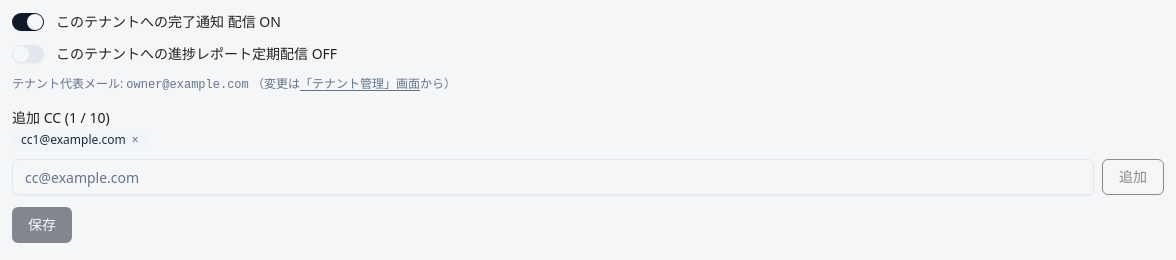
Test: TenantCcForm › 削除後に同じ email を再追加できる
Expected: the text "cc1@example.com" is shown, [21,131,126,148]
Click the button named "cc1@example.com を削除" at x=135, y=140, box [132,132,139,148]
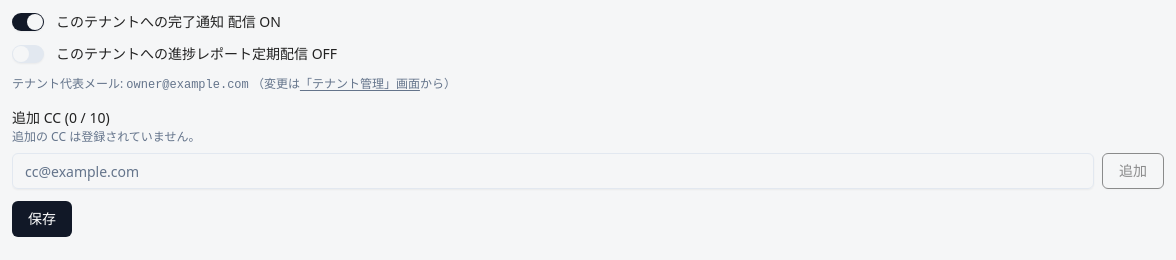
Now the text "cc1@example.com" is gone
// 同じ email を再追加
Type "cc1@example.com" into the field named "追加する CC メール" at x=553, y=171, box [12,153,1094,189]
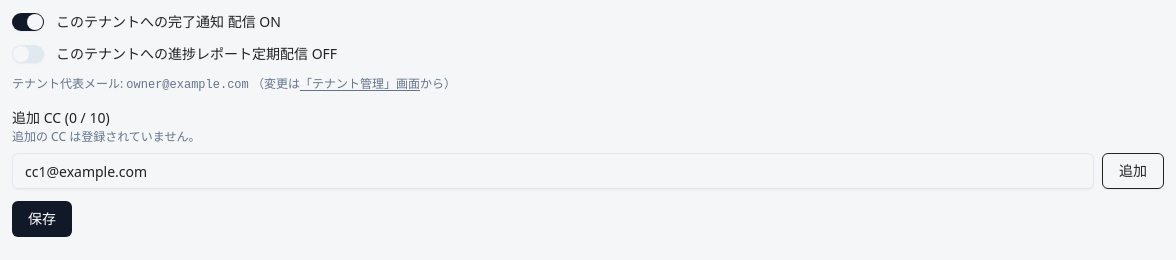
Click the button "追加" at x=1133, y=171, box [1102,153,1164,189]
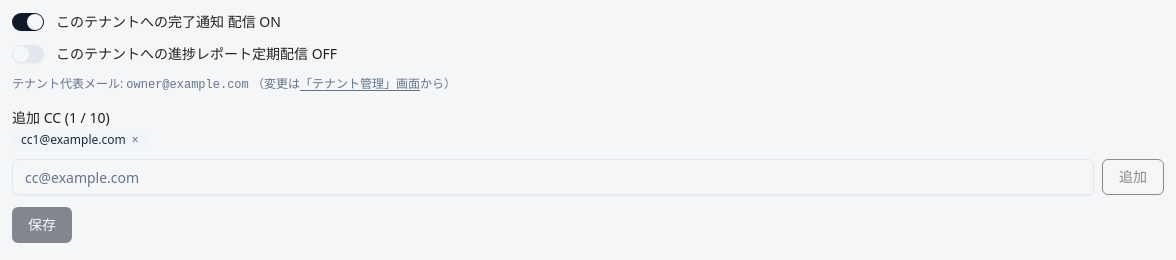
Now the text "cc1@example.com" is shown, box [21,131,126,148]
